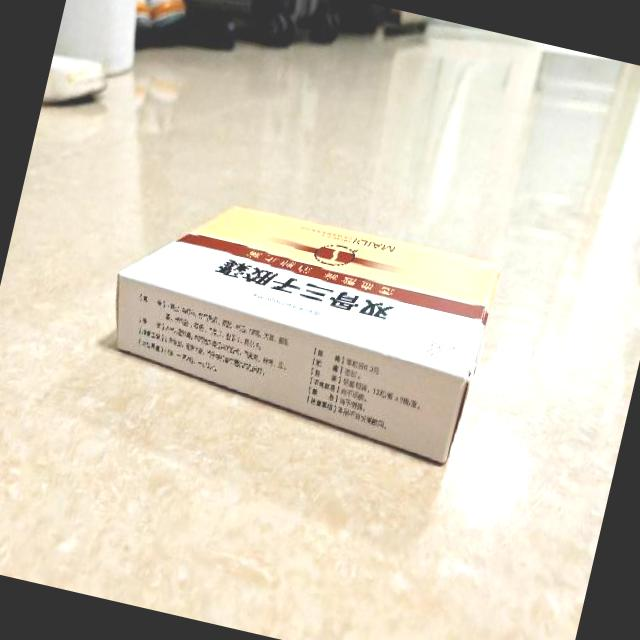box: (94, 179, 500, 466)
